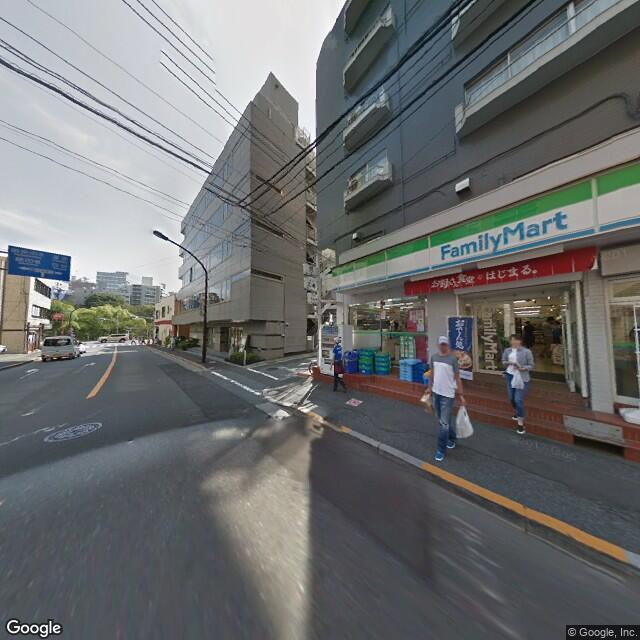family_mart: (327, 153, 639, 297), (437, 203, 573, 265)
